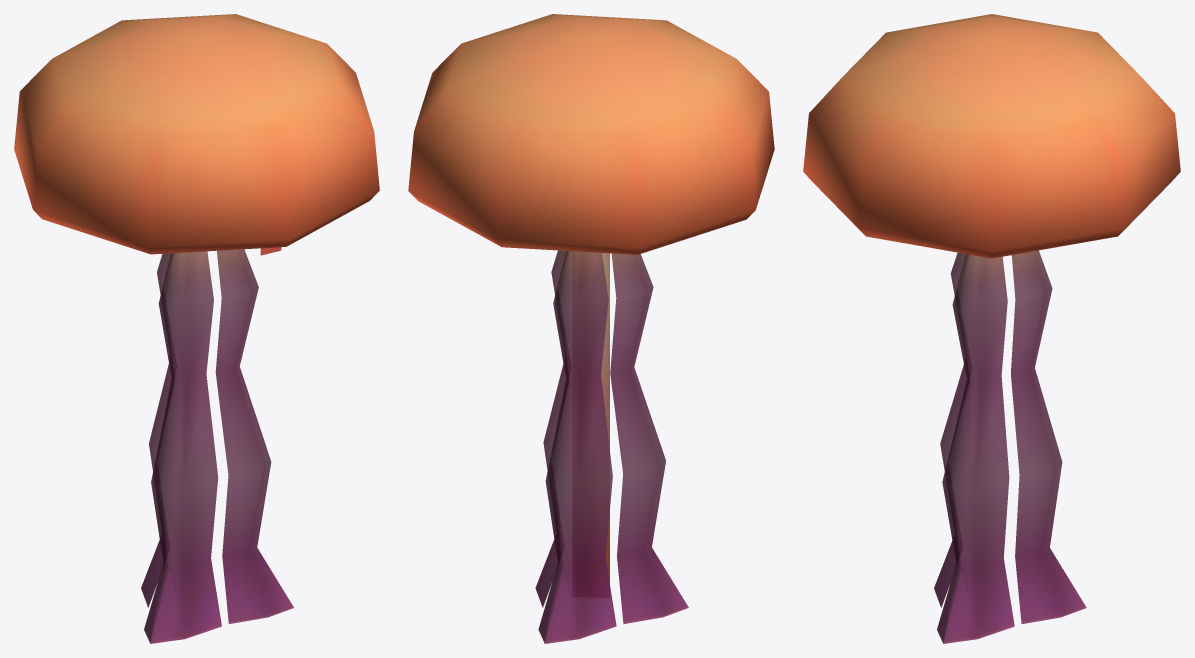
File: UWlamps_jellyfishB.glb
3 renders of one model, left to right at view 1: azimuth 30°, elevation 25°; view 2: azimuth 150°, elevation 25°; view 3: azimuth 270°, elevation 25°, orthographic.
Parts seen in each view (by area): view 1: jfB_top, jfB_leg; view 2: jfB_top, jfB_leg, jfB_inside__billboard; view 3: jfB_top, jfB_leg.
Boxes of the visible parts, box(x1,y1,x2,y2) form: jfB_top: box(14, 14, 379, 254); jfB_leg: box(141, 249, 293, 643); jfB_top: box(408, 14, 774, 254); jfB_leg: box(535, 250, 688, 643); jfB_inside__billboard: box(601, 253, 609, 583); jfB_top: box(803, 14, 1180, 258); jfB_leg: box(934, 250, 1086, 643).
Bounding box in the file's own units: 2.3 × 3.85 × 2.3.
Materials: 4 (4 with a texture image).
